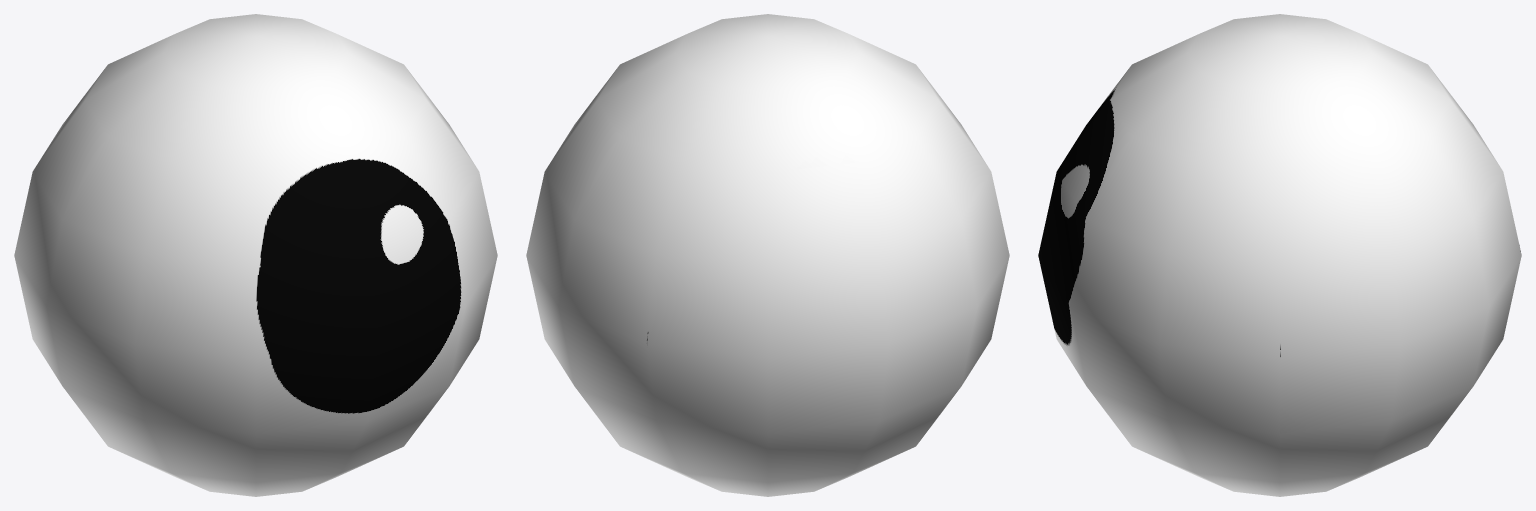
File: character_eye.glb
The picture shows the model from 3 angles, left to right: view 1: azimuth 30°, elevation 25°; view 2: azimuth 150°, elevation 25°; view 3: azimuth 270°, elevation 25°; orthographic projection.
Visible parts, largest first — view 1: Sphere; view 2: Sphere; view 3: Sphere.
Part boxes in pixels (bbox=[...]): Sphere: bbox=[14, 14, 497, 496]; Sphere: bbox=[526, 14, 1009, 496]; Sphere: bbox=[1038, 14, 1521, 496].
Size of the model in its own units: 2 by 2 by 2.
1 material, 1 textured.
